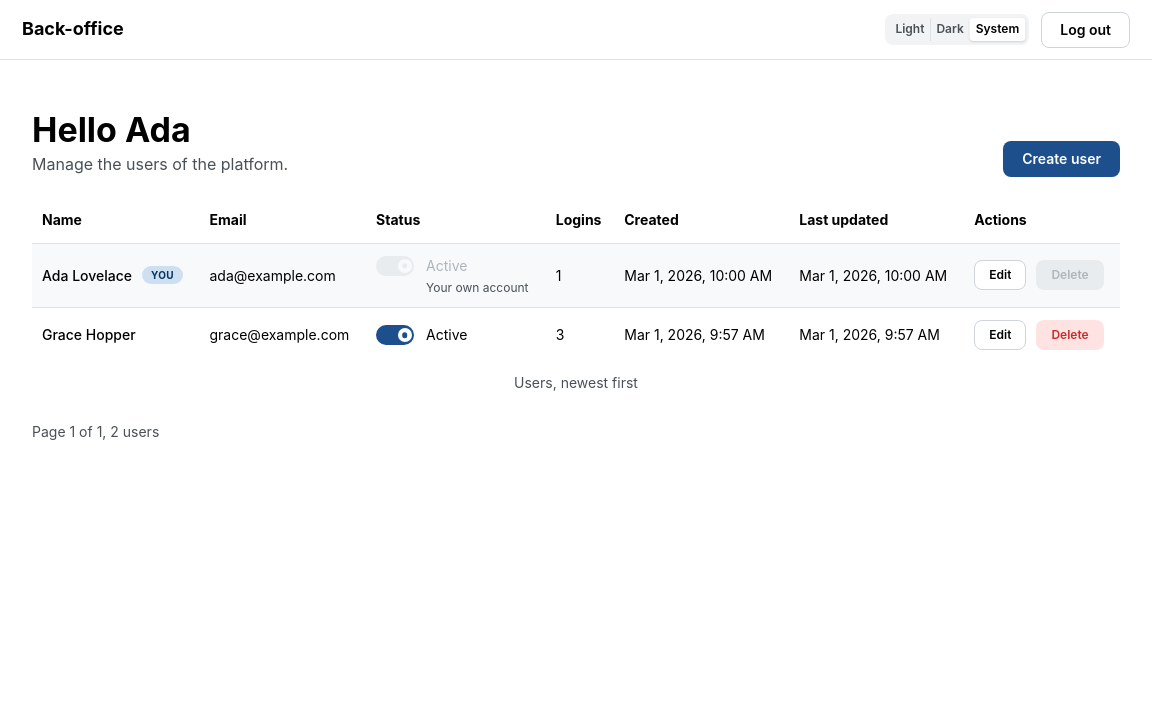
Scenario: dashboard: create, edit, status, delete › DASH-50 DASH-51 deletes after a confirmation that names the user
Expected: the table is shown, [32,197,1120,394]
Click the button with aria-label "Delete Grace Hopper": coordinates (1070, 335) [1036,320,1104,350]
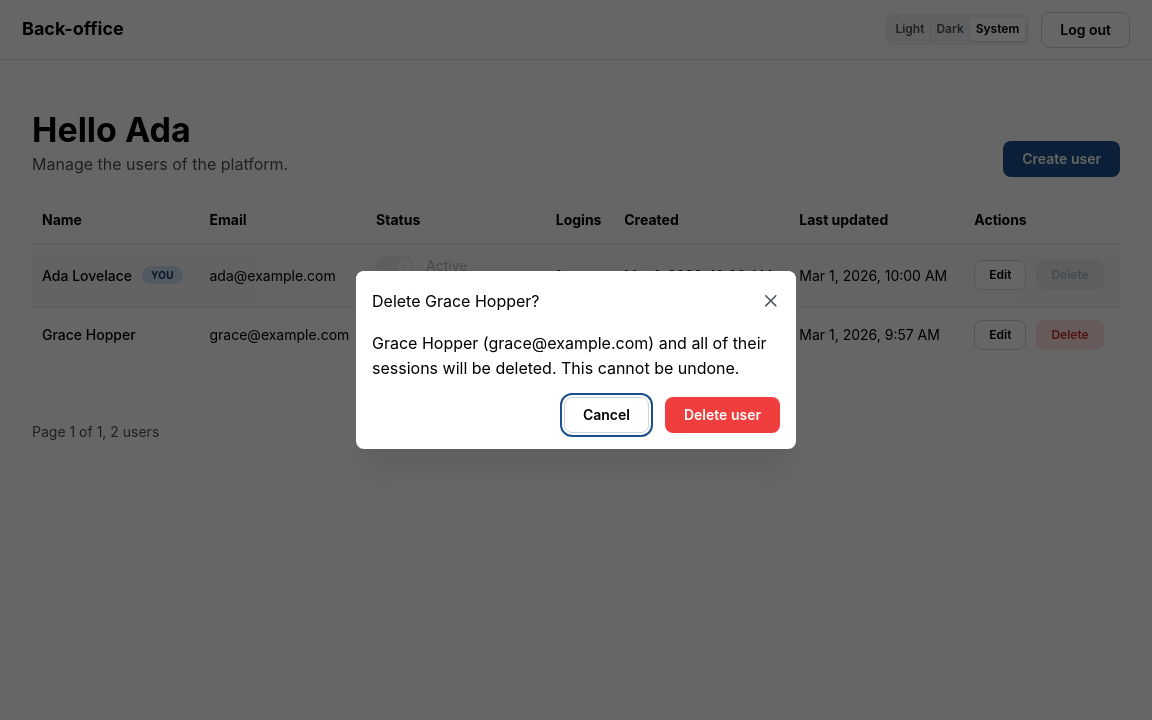
Now the text "grace@example.com" is shown, box [488,333,648,353]
Click the button "Delete user": coordinates (722, 415) [665,397,780,433]
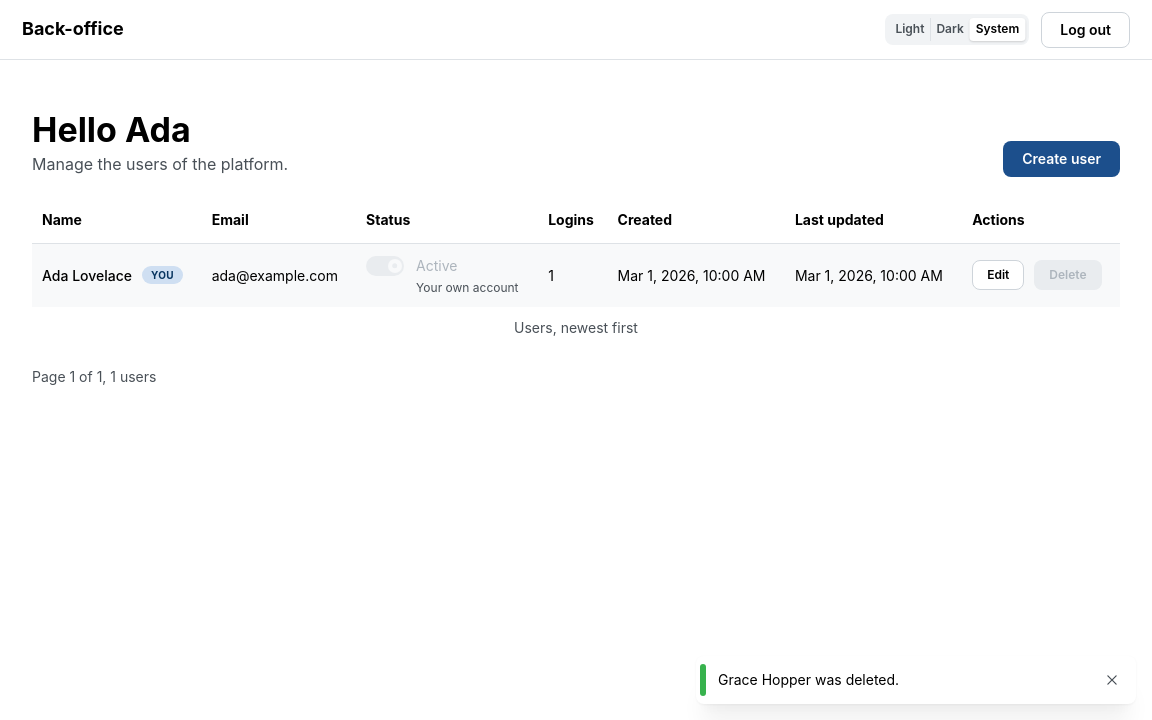
Now the text "Grace Hopper was deleted." is shown, box [718,671,899,688]
